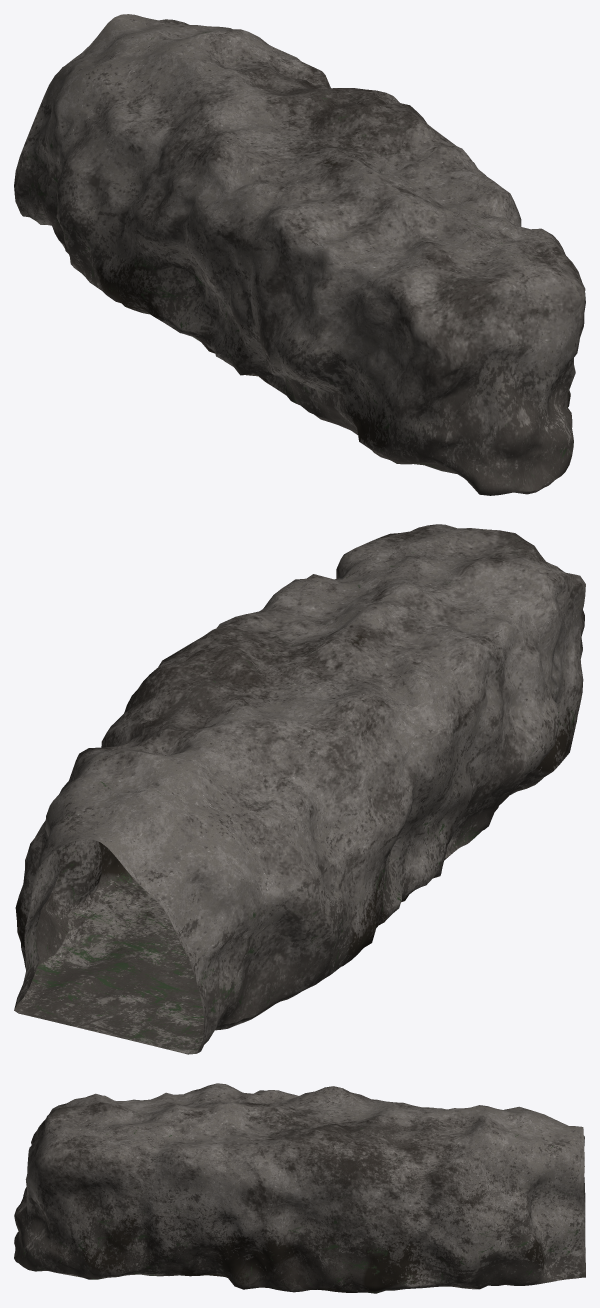
The model's file is grotto.glb.
3 renders of one model, top to bottom at view 1: azimuth 30°, elevation 25°; view 2: azimuth 150°, elevation 25°; view 3: azimuth 270°, elevation 25°, orthographic. The views are drawn at different scales.
Parts seen in each view (by area): view 1: Object_2; view 2: Object_2; view 3: Object_2.
Part boxes in pixels (bbox=[...]): Object_2: bbox=[14, 14, 585, 495]; Object_2: bbox=[14, 524, 585, 1054]; Object_2: bbox=[14, 1083, 585, 1293].
Size of the model in its own units: 4.64 by 3.47 by 11.76.
Materials: 1 (1 with a texture image).
